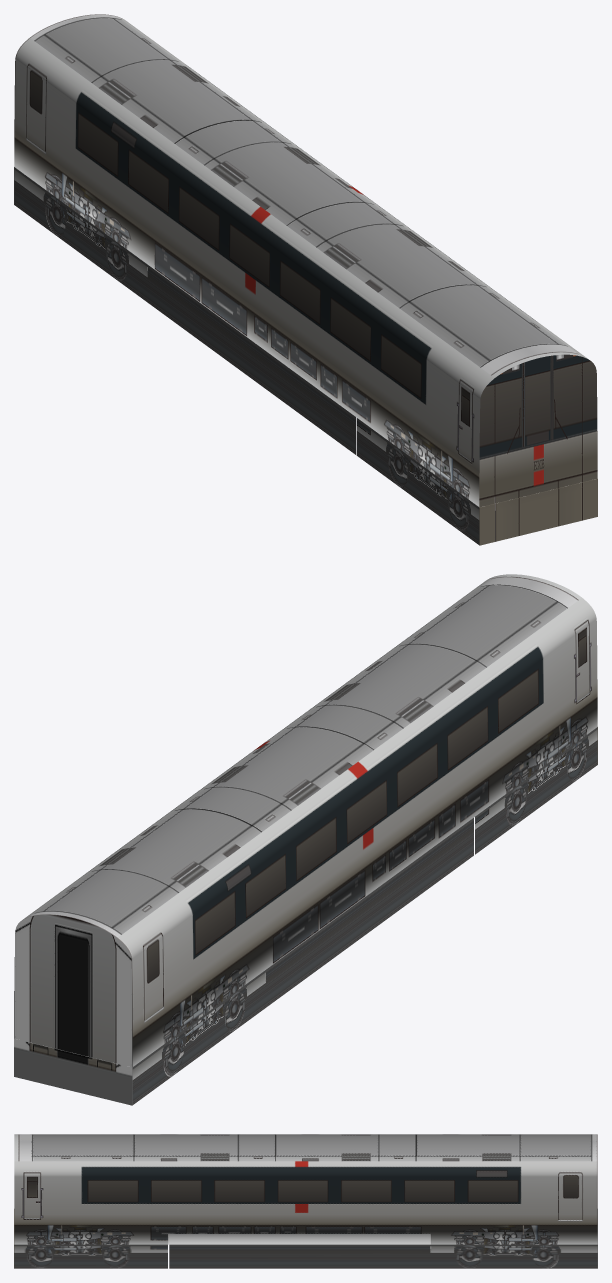
The model's file is car1.glb.
The picture shows the model from 3 angles, top to bottom: view 1: azimuth 30°, elevation 25°; view 2: azimuth 150°, elevation 25°; view 3: azimuth 270°, elevation 25°; orthographic projection. The views are drawn at different scales.
Visible parts, largest first — view 1: odakyu-30000-car1; view 2: odakyu-30000-car1; view 3: odakyu-30000-car1.
Part boxes in pixels (box(x1,y1,x2,y2)): odakyu-30000-car1: box(14, 14, 597, 545); odakyu-30000-car1: box(14, 574, 597, 1105); odakyu-30000-car1: box(14, 1134, 597, 1268).
Size of the model in its own units: 2.9 by 4.05 by 19.78.
Materials: 9 (8 with a texture image).
